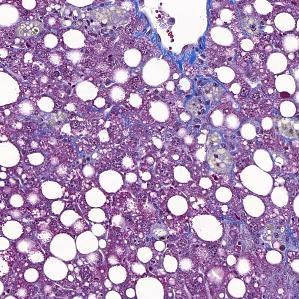fibrosis: (172, 52, 229, 107)
